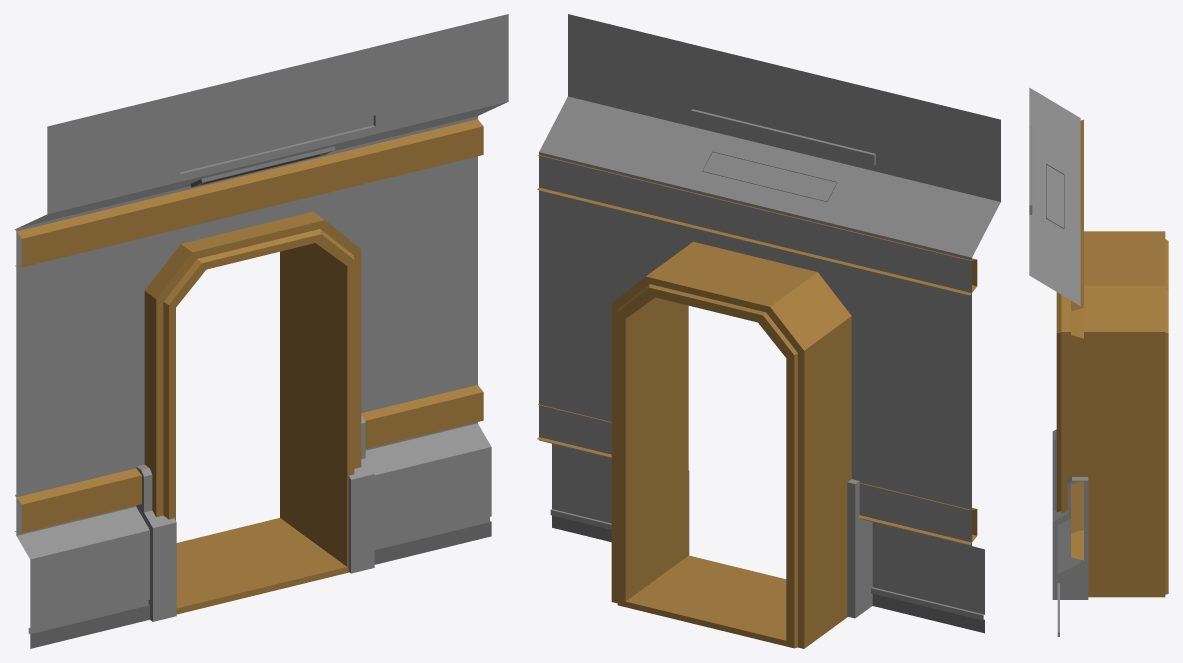
Rendered from doorsingle-wall-sidea.glb.
3 renders of one model, left to right at view 1: azimuth 30°, elevation 25°; view 2: azimuth 150°, elevation 25°; view 3: azimuth 270°, elevation 25°, orthographic. The views are drawn at different scales.
Visible parts, largest first — view 1: DoorSingle_Wall_SideA; view 2: DoorSingle_Wall_SideA; view 3: DoorSingle_Wall_SideA.
Boxes of the visible parts, left/top/right/bottom form: DoorSingle_Wall_SideA: left=14, top=14, right=508, bottom=648; DoorSingle_Wall_SideA: left=537, top=14, right=1000, bottom=648; DoorSingle_Wall_SideA: left=1029, top=87, right=1168, bottom=636.
Bounding box in the file's own units: 4 × 4.44 × 1.25.
